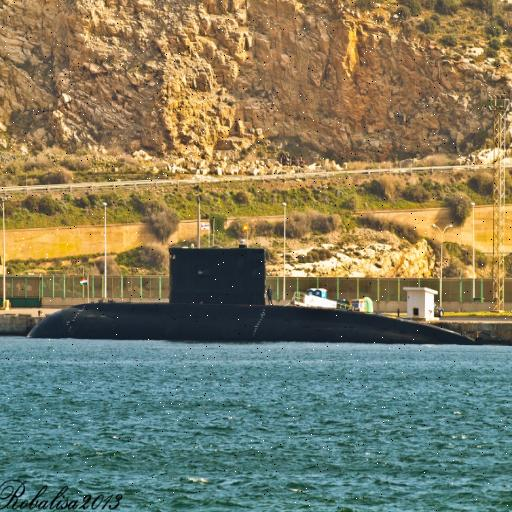submarine: (28, 249, 473, 346)
